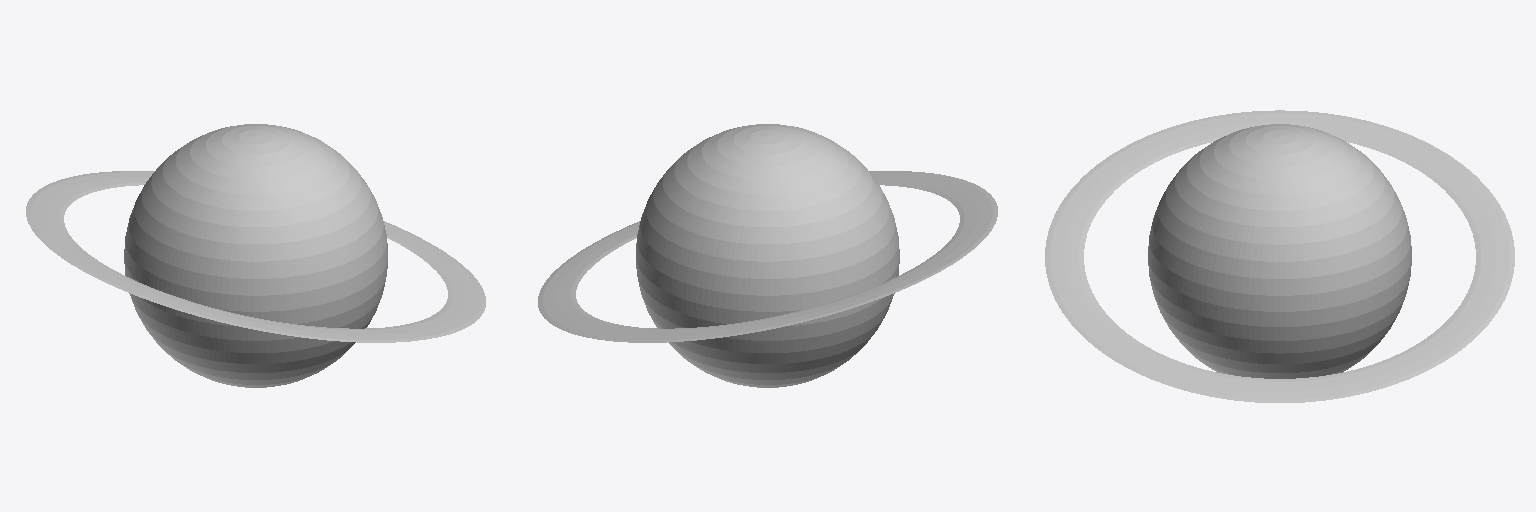
File: Saturn.obj
The picture shows the model from 3 angles: view 1: azimuth 30°, elevation 25°; view 2: azimuth 150°, elevation 25°; view 3: azimuth 270°, elevation 25°; orthographic projection.
Visible parts, largest first — view 1: Sphere_Material.002_0, Circle_ring_0; view 2: Sphere_Material.002_0, Circle_ring_0; view 3: Sphere_Material.002_0, Circle_ring_0.
Boxes of the visible parts, box(x1,y1,x2,y2) form: Sphere_Material.002_0: box(124, 124, 387, 387); Circle_ring_0: box(26, 171, 485, 342); Sphere_Material.002_0: box(636, 124, 899, 387); Circle_ring_0: box(538, 171, 997, 342); Sphere_Material.002_0: box(1148, 124, 1411, 378); Circle_ring_0: box(1045, 110, 1514, 402).
Size of the model in its own units: 7.16 by 4.14 by 7.36.